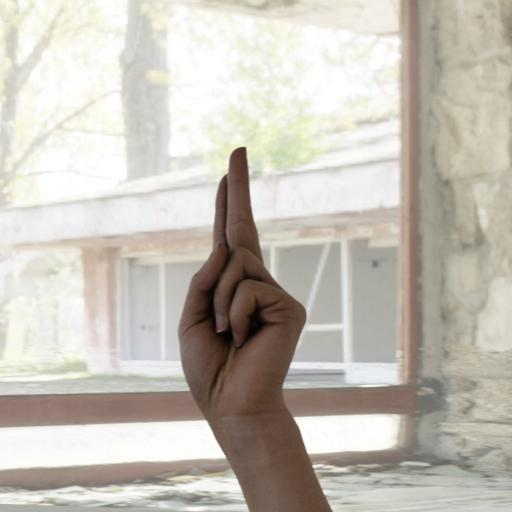U: (171, 142, 314, 438)
